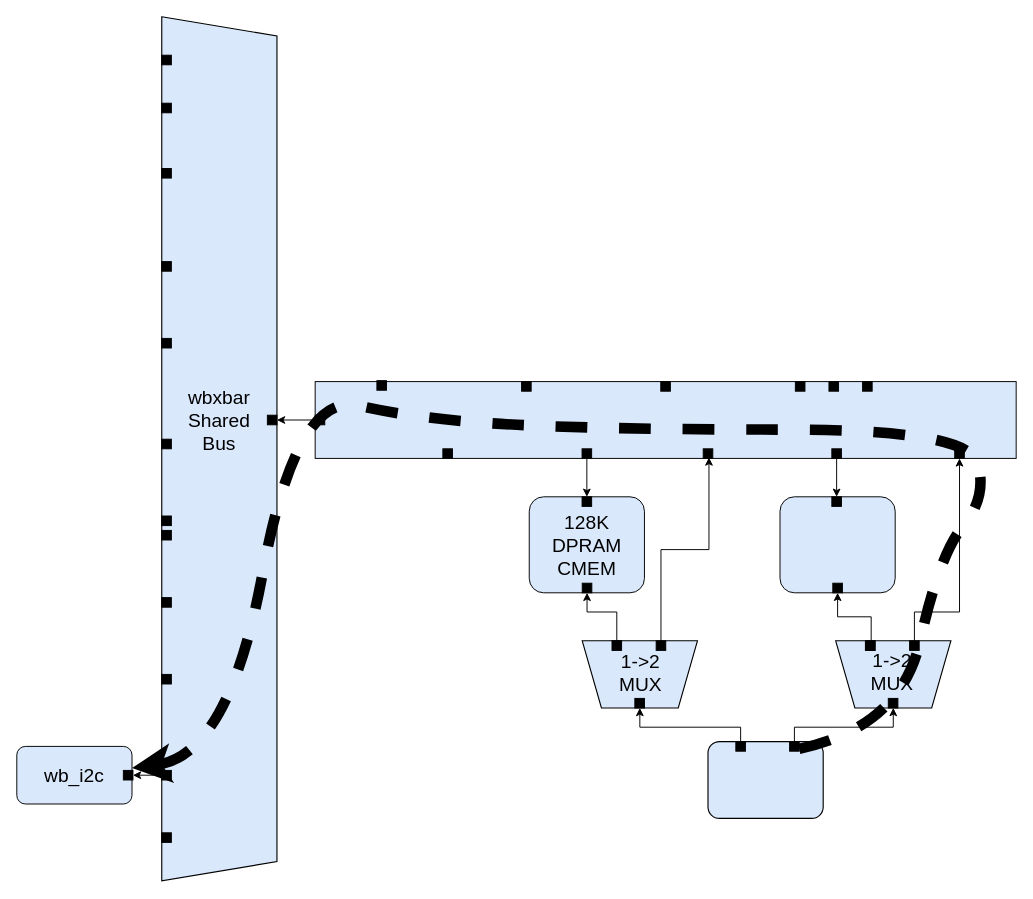
Image size: 1033x899. Some labels were removed from this diagram. Here are the shapes that lost their labels. From the top down, the box of each, then its label:
(314, 381, 1016, 458): wbxbar Wishbone Crossbar
(779, 496, 895, 593): 128K DPRAM DMEM
(707, 741, 823, 818): Ibex RV32IM
